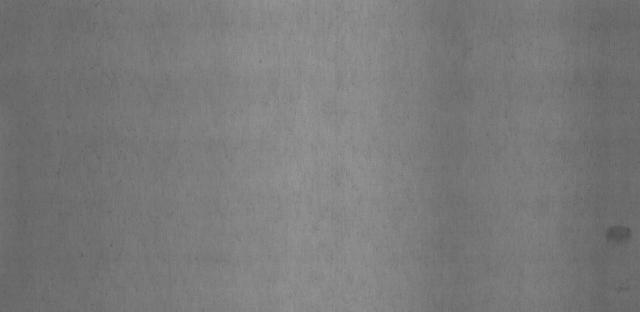oil_spot: (602, 218, 635, 247)
